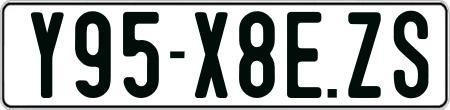5: (122, 10, 161, 101)
8: (238, 8, 276, 95)
9: (72, 8, 112, 101)
E: (287, 10, 323, 102)
S: (392, 9, 427, 96)
X: (194, 9, 232, 99)
Y: (30, 12, 67, 99)
Z: (346, 12, 383, 101)
